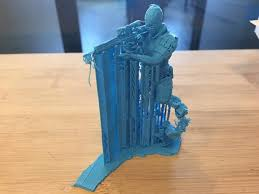Fail: (75, 1, 191, 192)
